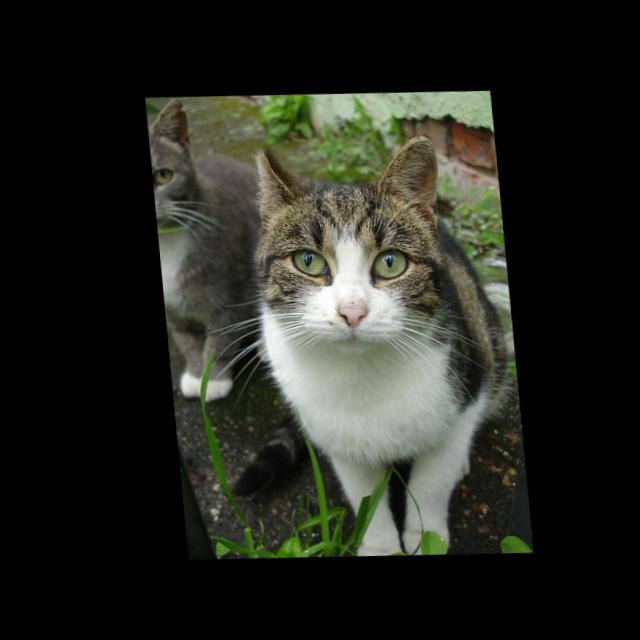animals: (239, 127, 522, 559), (144, 95, 254, 401)
